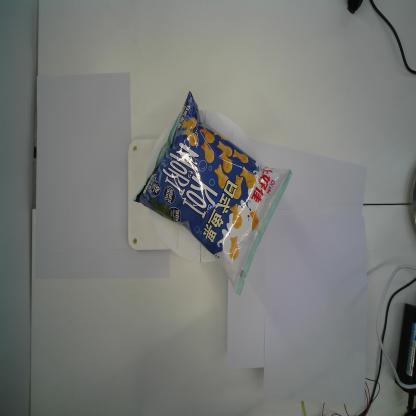Puffed Food: (132, 90, 293, 297)
